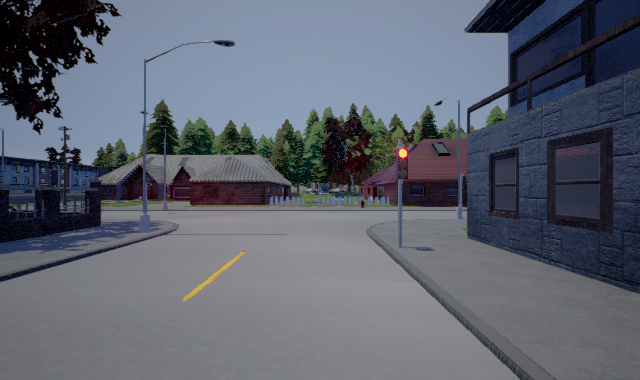traffic_light: (396, 142, 408, 185)
